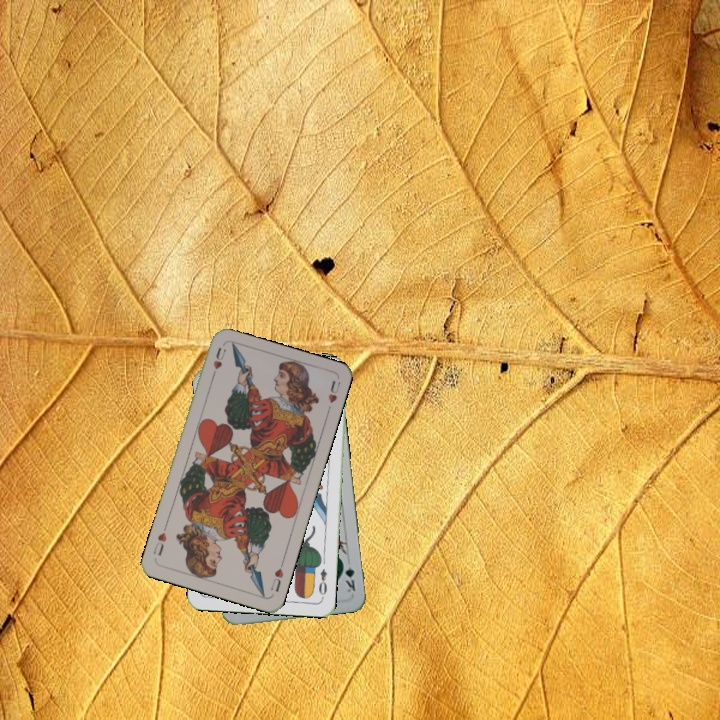EO: (315, 565, 330, 601)
GK: (338, 556, 358, 595)
HU: (207, 343, 228, 382), (266, 557, 286, 595)
